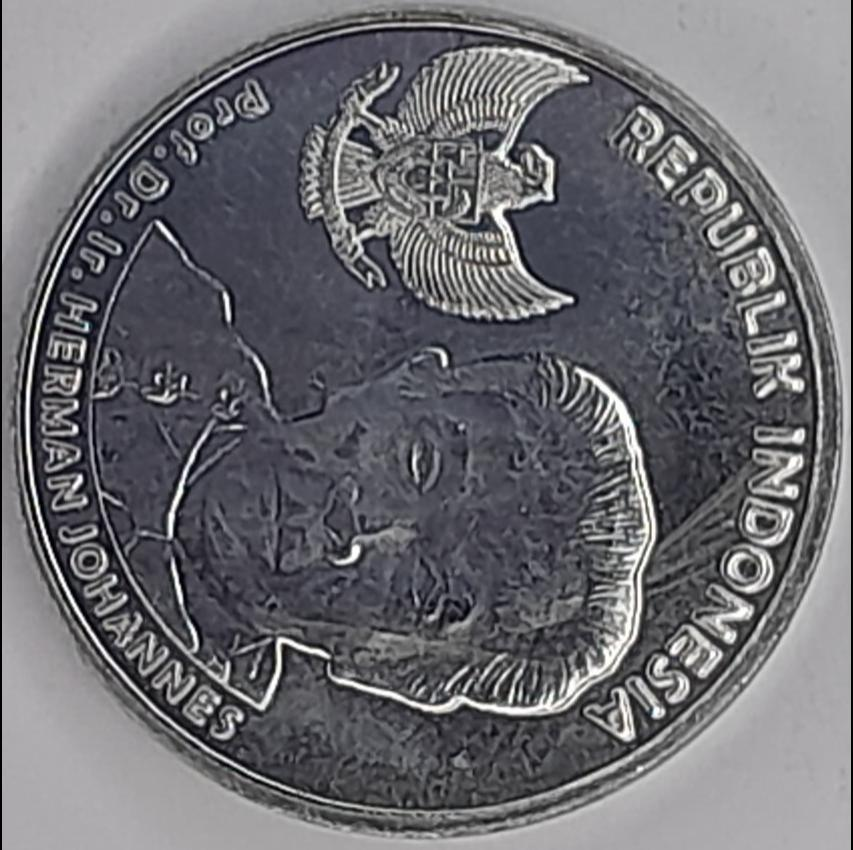coin_100_e2016: (6, 2, 847, 841)
